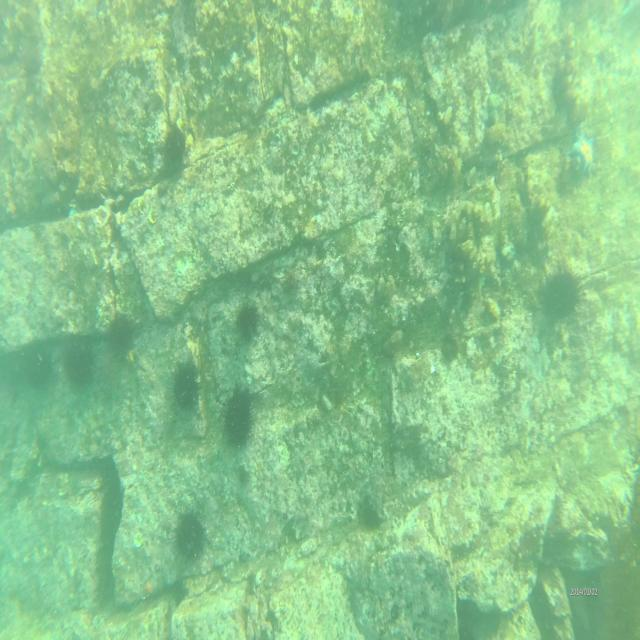echinus: (542, 263, 582, 327), (220, 381, 256, 446), (64, 339, 97, 390), (171, 362, 203, 414), (174, 511, 204, 562), (96, 341, 122, 395), (162, 120, 187, 172), (23, 346, 51, 392), (105, 313, 133, 357), (234, 304, 262, 345)
starfish: (568, 125, 597, 177)
